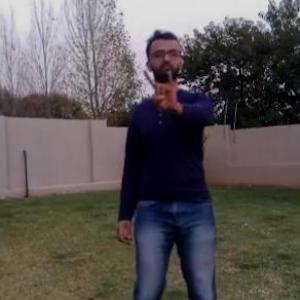takeoff-hand: (143, 64, 188, 118)
